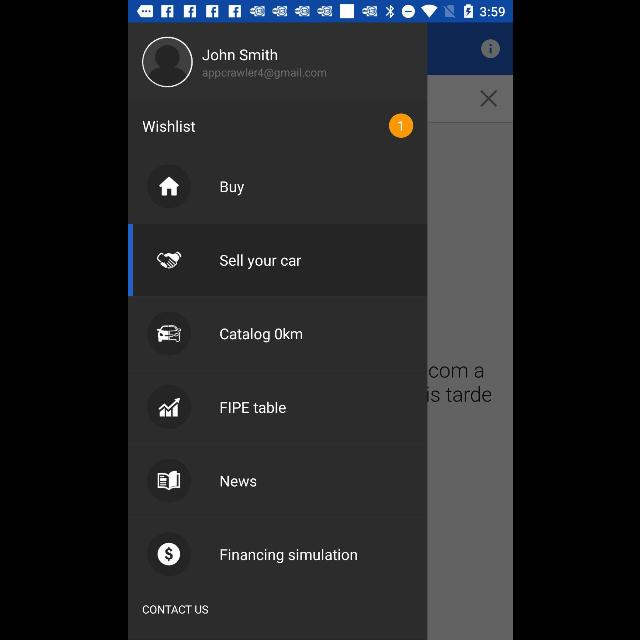icon: (142, 36, 192, 88), (146, 532, 190, 576), (146, 459, 190, 503), (146, 385, 190, 429), (146, 164, 190, 208), (480, 39, 500, 59), (479, 90, 496, 108)
image: (146, 311, 190, 355), (388, 114, 412, 138), (156, 251, 182, 269)
panel: (128, 23, 426, 639)
text: (219, 548, 357, 564), (200, 66, 326, 80), (219, 254, 301, 270), (220, 327, 302, 343), (202, 48, 276, 62), (219, 401, 285, 413), (140, 604, 208, 614), (142, 120, 194, 132), (220, 474, 256, 488), (220, 181, 244, 197)
uppertaskbar: (128, 1, 512, 23)
